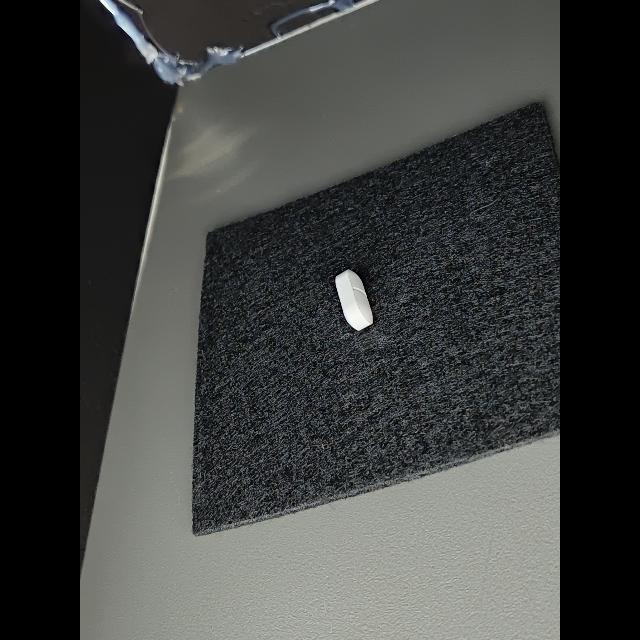Intact Pill: (336, 269, 373, 331)
